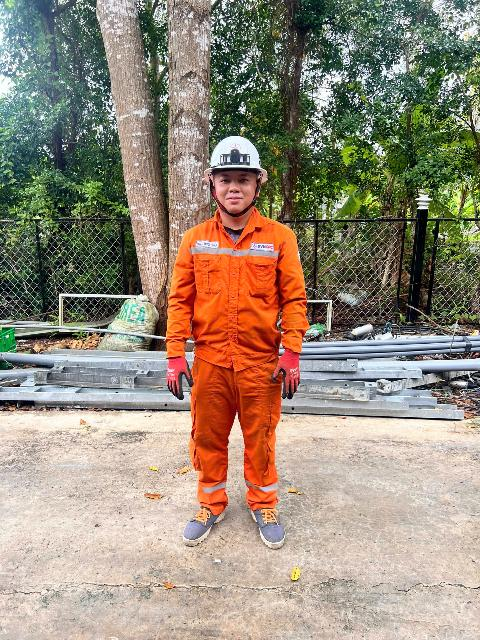gloves: (268, 339, 312, 403), (160, 352, 203, 404)
helmet: (204, 131, 281, 184)
shoes: (166, 493, 232, 546), (245, 504, 298, 552)
